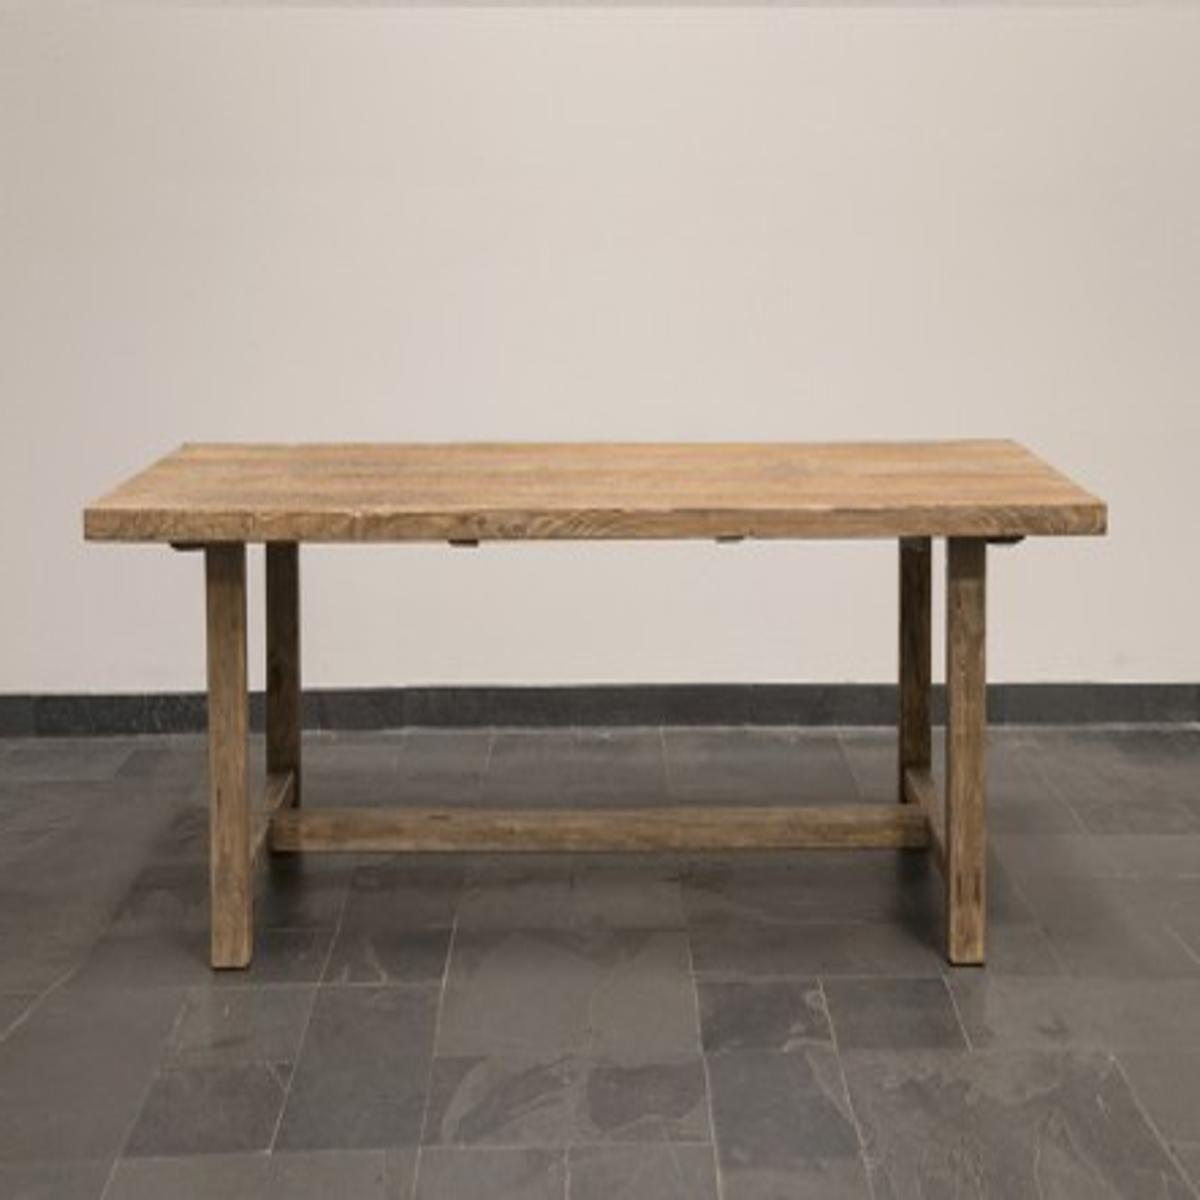Table: (71, 406, 1125, 1013)
